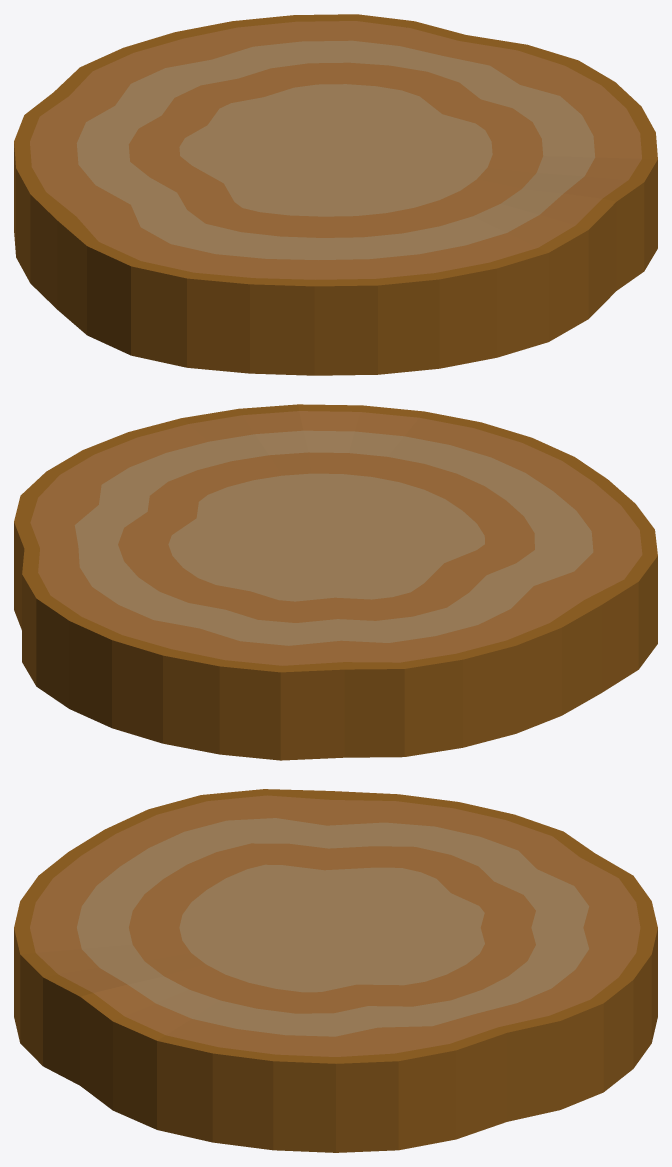
The model's file is Wood.fbx.
3 renders of one model, top to bottom at view 1: azimuth 30°, elevation 25°; view 2: azimuth 150°, elevation 25°; view 3: azimuth 270°, elevation 25°, orthographic.
Visible parts, largest first — view 1: Cylinder; view 2: Cylinder; view 3: Cylinder.
Part boxes in pixels (left/top/right/bottom): Cylinder: left=14, top=14, right=657, bottom=375; Cylinder: left=14, top=404, right=657, bottom=760; Cylinder: left=14, top=789, right=657, bottom=1152.
Bounding box in the file's own units: 130 × 20.81 × 129.
